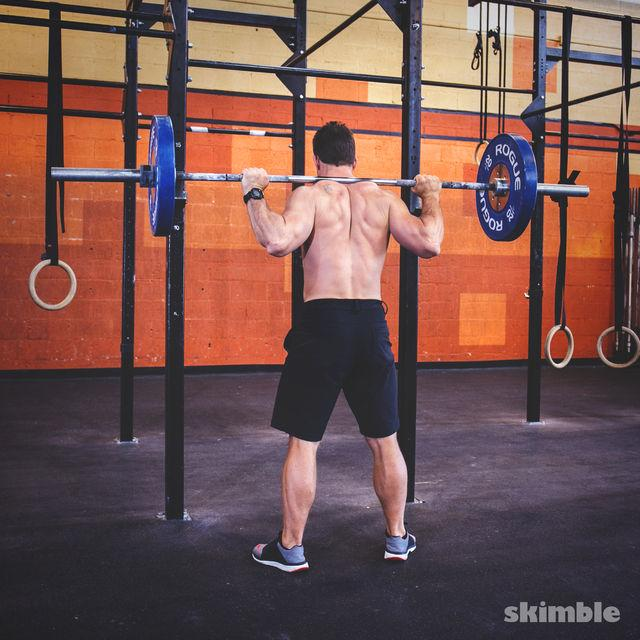squat: (46, 94, 598, 586)
